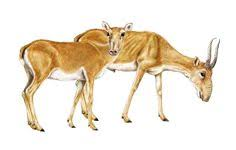saiga: (73, 27, 221, 123), (18, 20, 134, 132)
